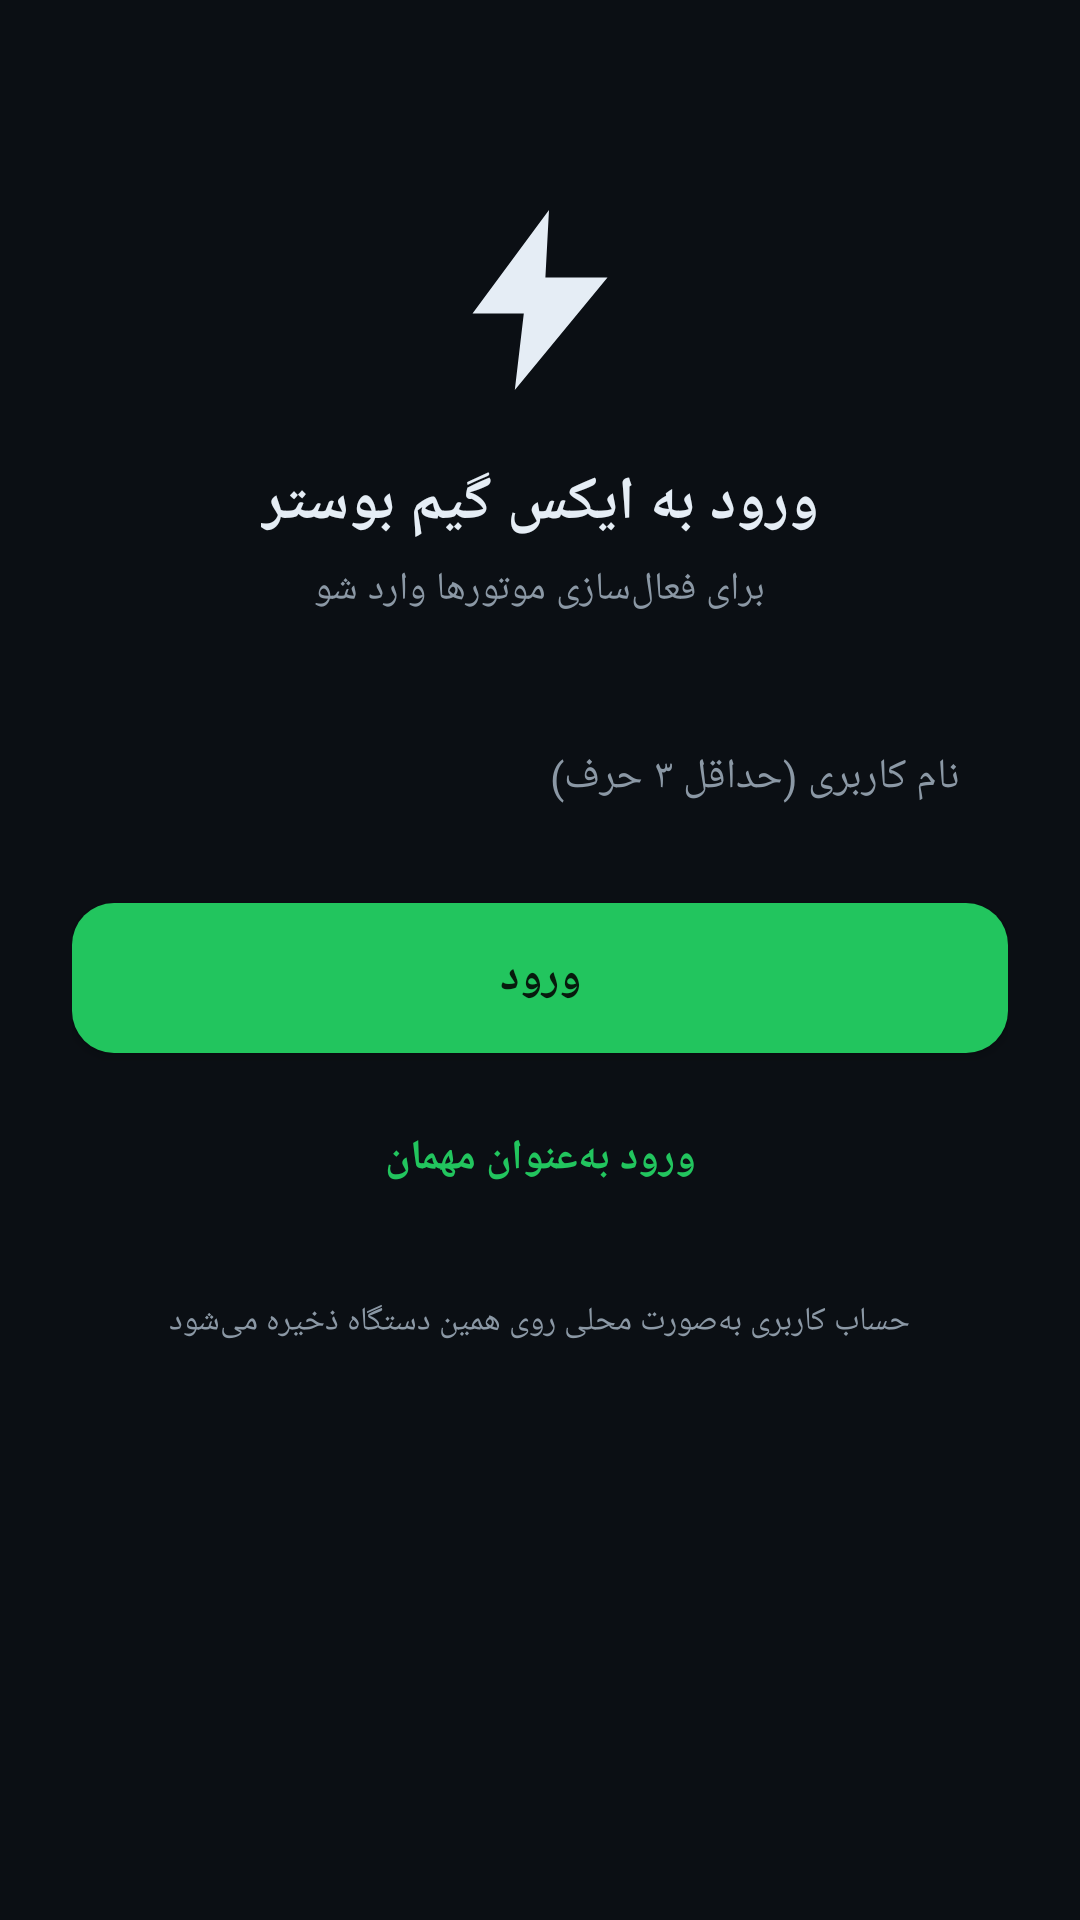

Icon bounding boxes for this 1080px x 1920px phone screenshot, format [x1, y1, x2, y2]:
bolt: [472, 210, 608, 390]
